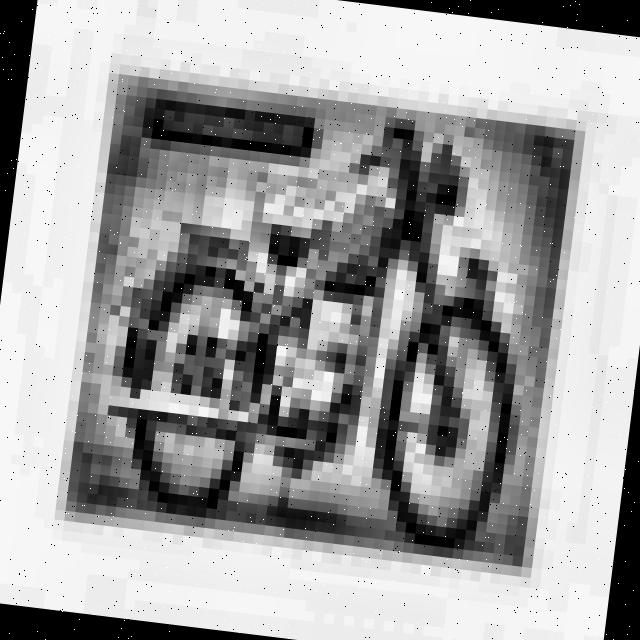mopeds: (84, 96, 572, 568)
